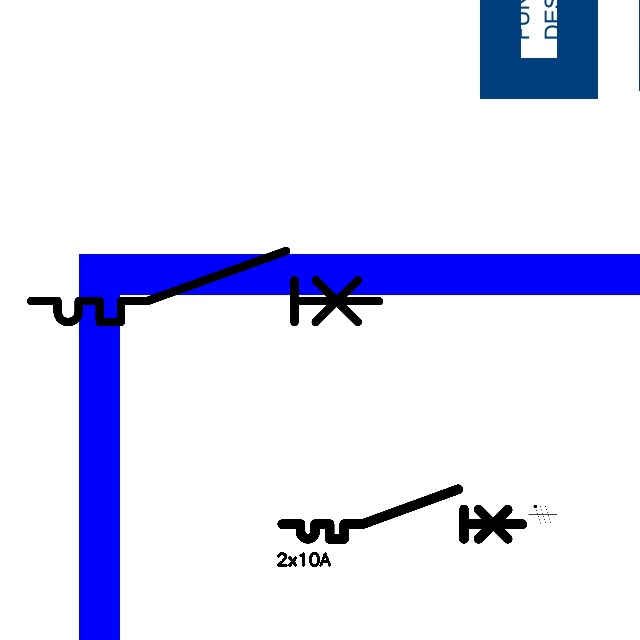interruptor_termomagnetico: (22, 242, 388, 331), (276, 483, 528, 545)
